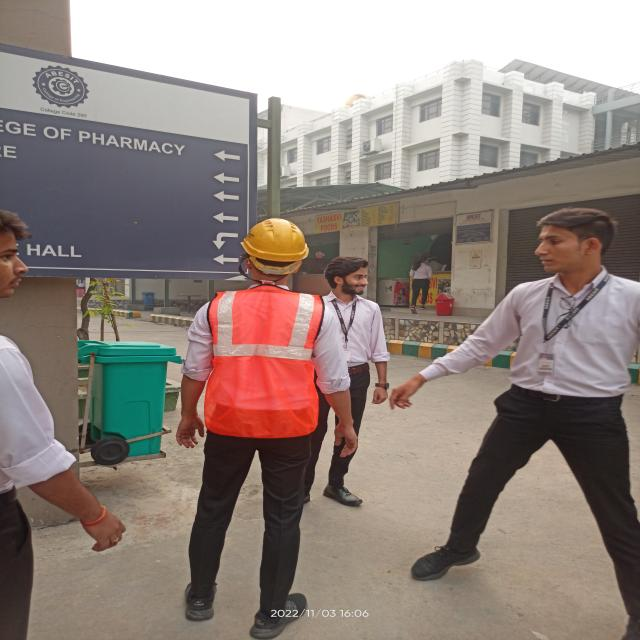safe: (174, 216, 353, 640)
unsafe: (388, 205, 640, 640), (0, 206, 126, 640), (313, 254, 394, 503), (409, 254, 433, 309)
